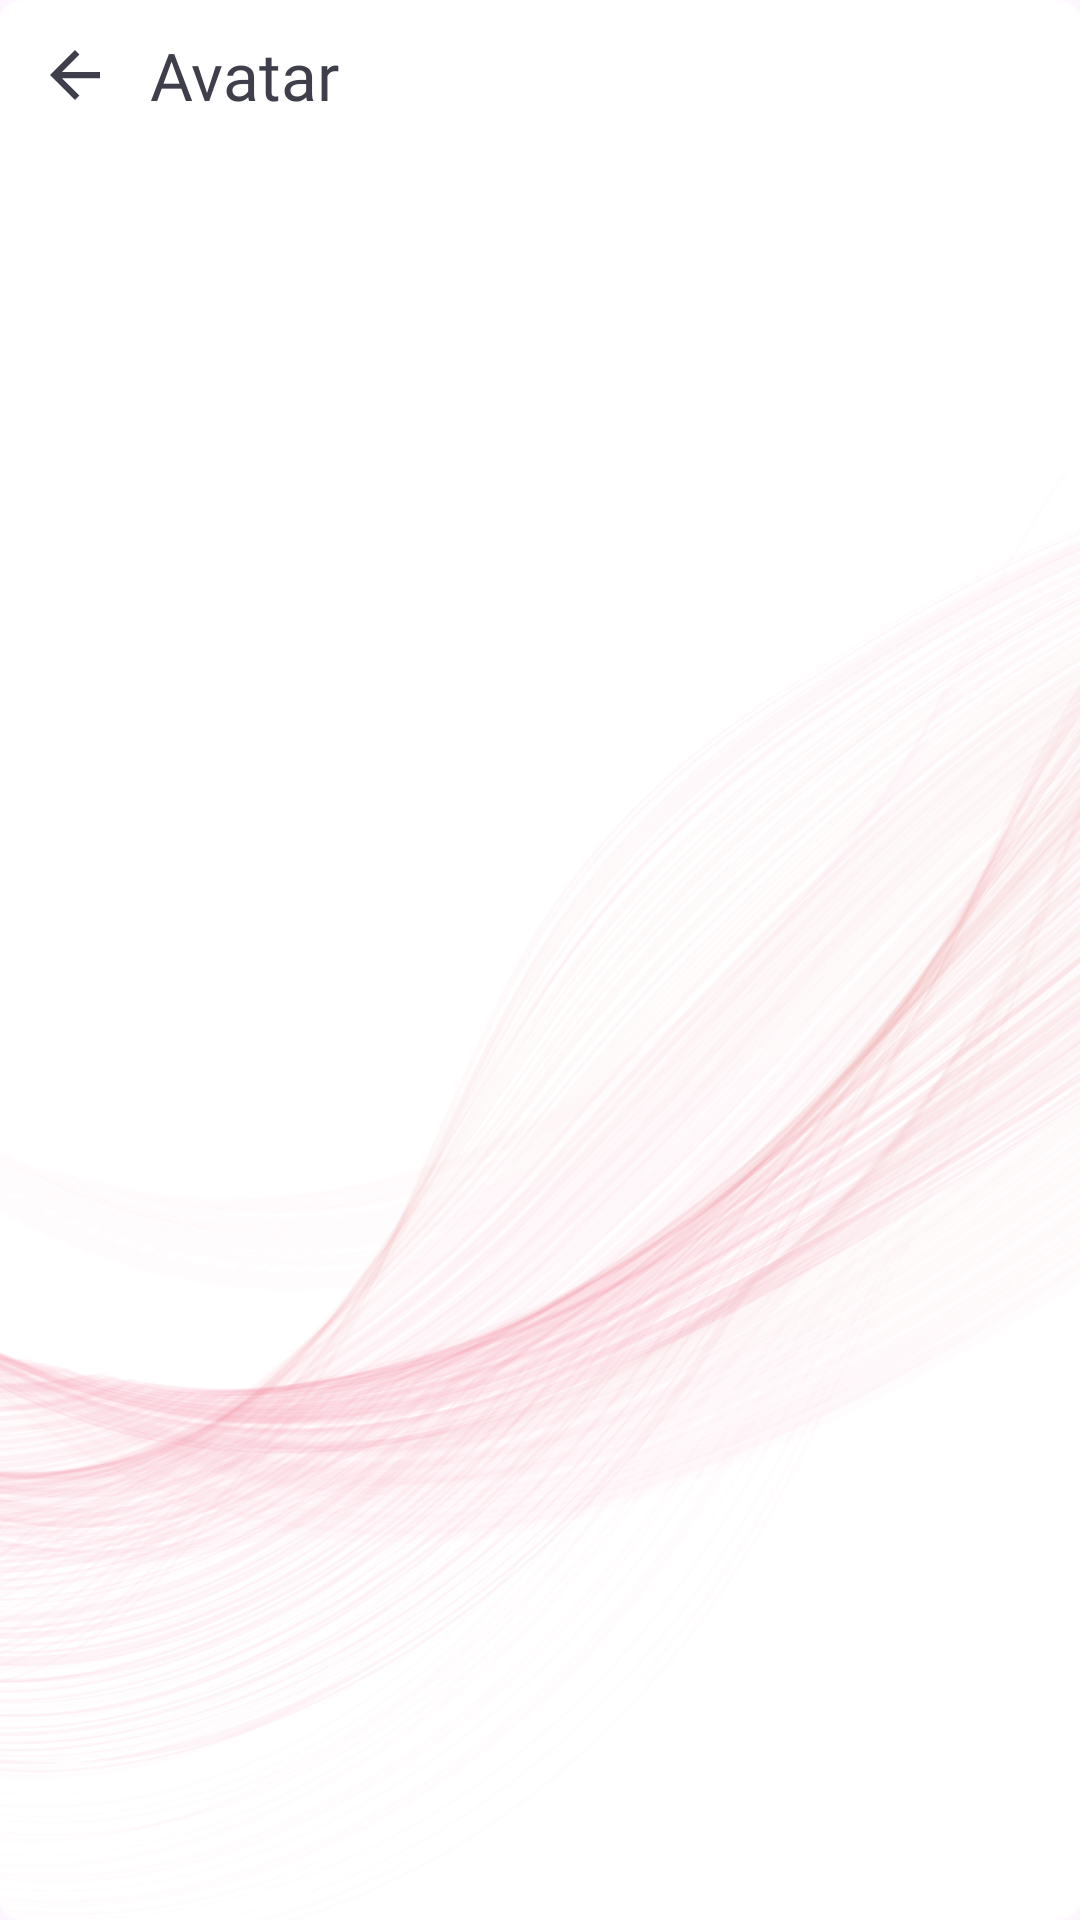

Screen size 1080 × 1920. Icon name, then its center in pixels as (x,y):
back: (75,75)
